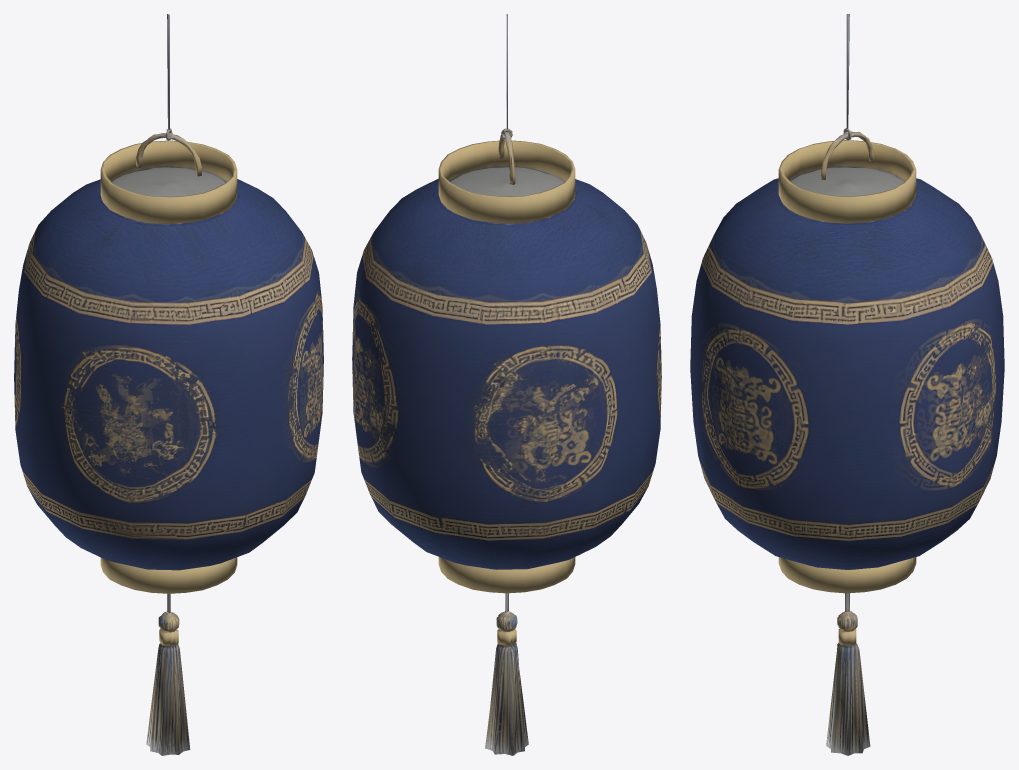
File: latern3.glb
3 views of the same model, side by side, from view 1: azimuth 30°, elevation 25°; view 2: azimuth 150°, elevation 25°; view 3: azimuth 270°, elevation 25° (orthographic).
Visible parts, largest first — view 1: tripo_node_bcd3cf20-8270-4b0b-9421-8ab501e88181; view 2: tripo_node_bcd3cf20-8270-4b0b-9421-8ab501e88181; view 3: tripo_node_bcd3cf20-8270-4b0b-9421-8ab501e88181.
Part boxes in pixels (left/top/right/bottom): tripo_node_bcd3cf20-8270-4b0b-9421-8ab501e88181: left=14, top=14, right=323, bottom=755; tripo_node_bcd3cf20-8270-4b0b-9421-8ab501e88181: left=352, top=14, right=661, bottom=755; tripo_node_bcd3cf20-8270-4b0b-9421-8ab501e88181: left=690, top=14, right=1004, bottom=755.
Size of the model in its own units: 0.3887 by 0.998 by 0.3887.
1 material, 1 textured.
